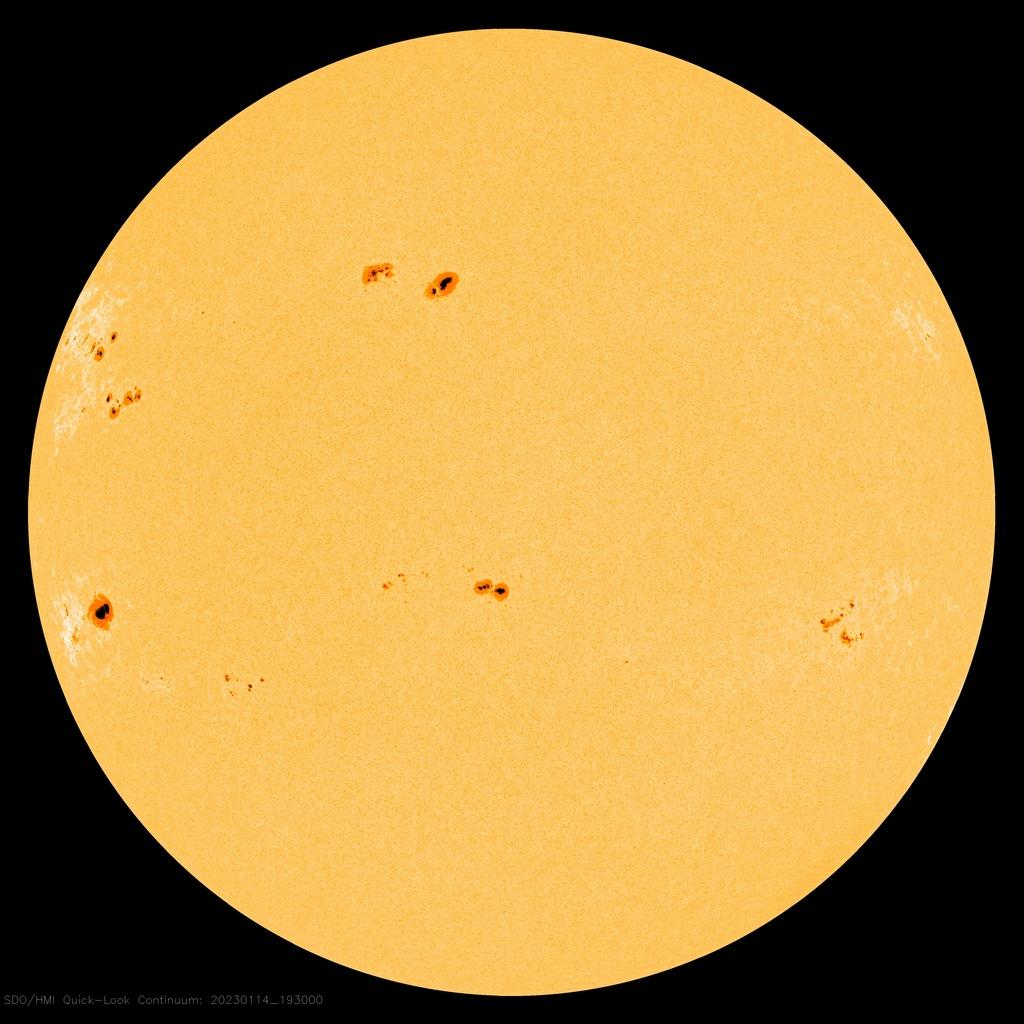flare: (81, 324, 156, 436), (377, 558, 516, 612), (355, 254, 468, 309), (55, 587, 122, 655), (808, 590, 871, 655), (218, 661, 273, 710)
